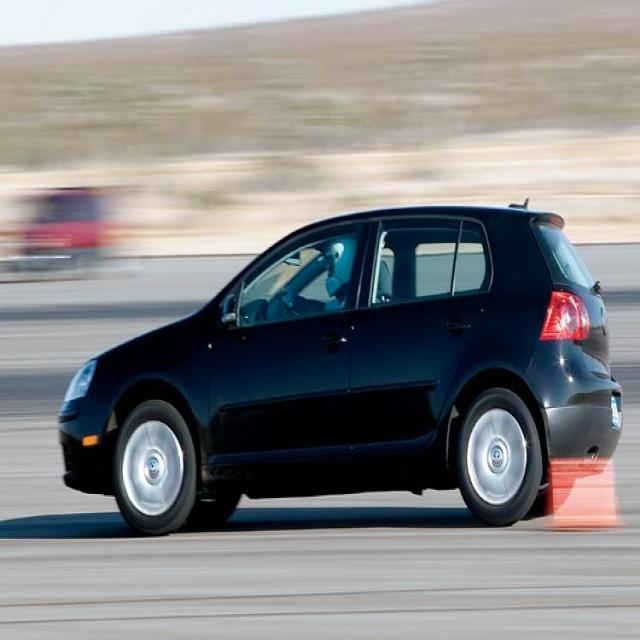Car: (45, 187, 628, 547)
